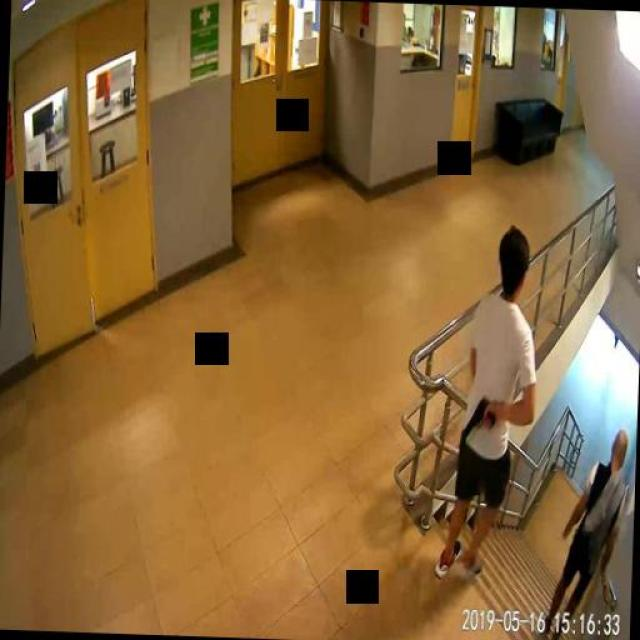gun: (461, 394, 495, 438)
